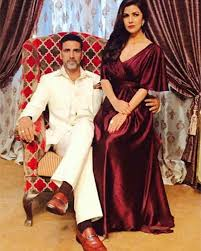Bad: (17, 1, 160, 250)
